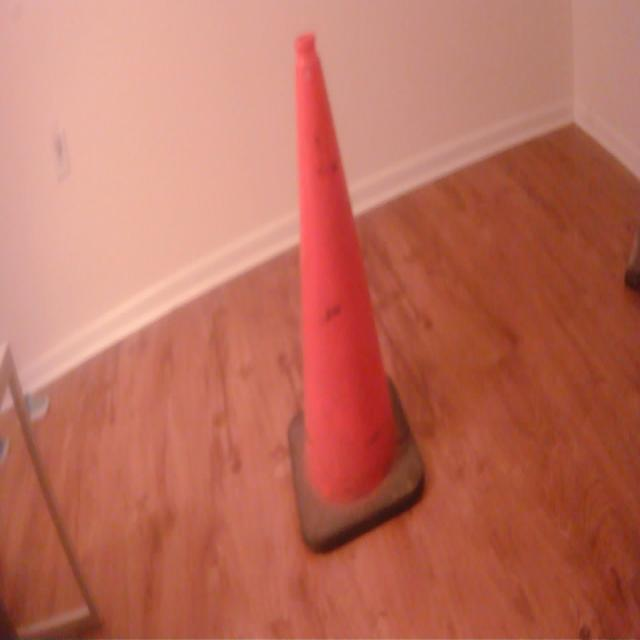traffic cone: (285, 25, 431, 566)
